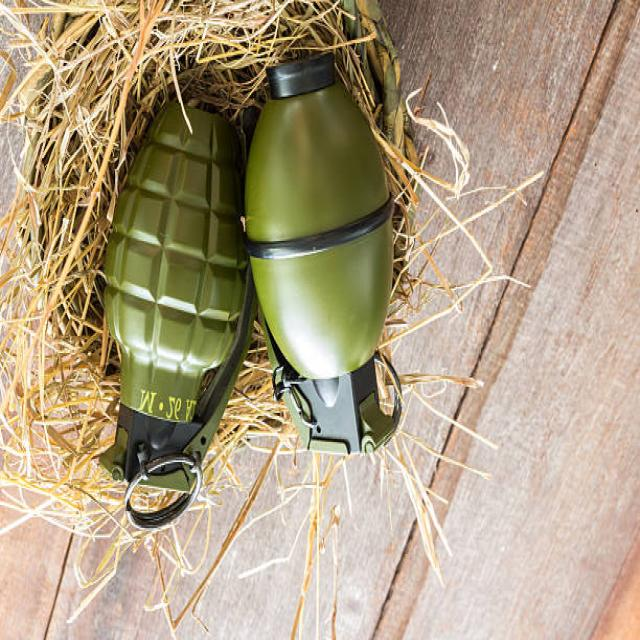grenade: (98, 103, 261, 530), (245, 54, 408, 462)
